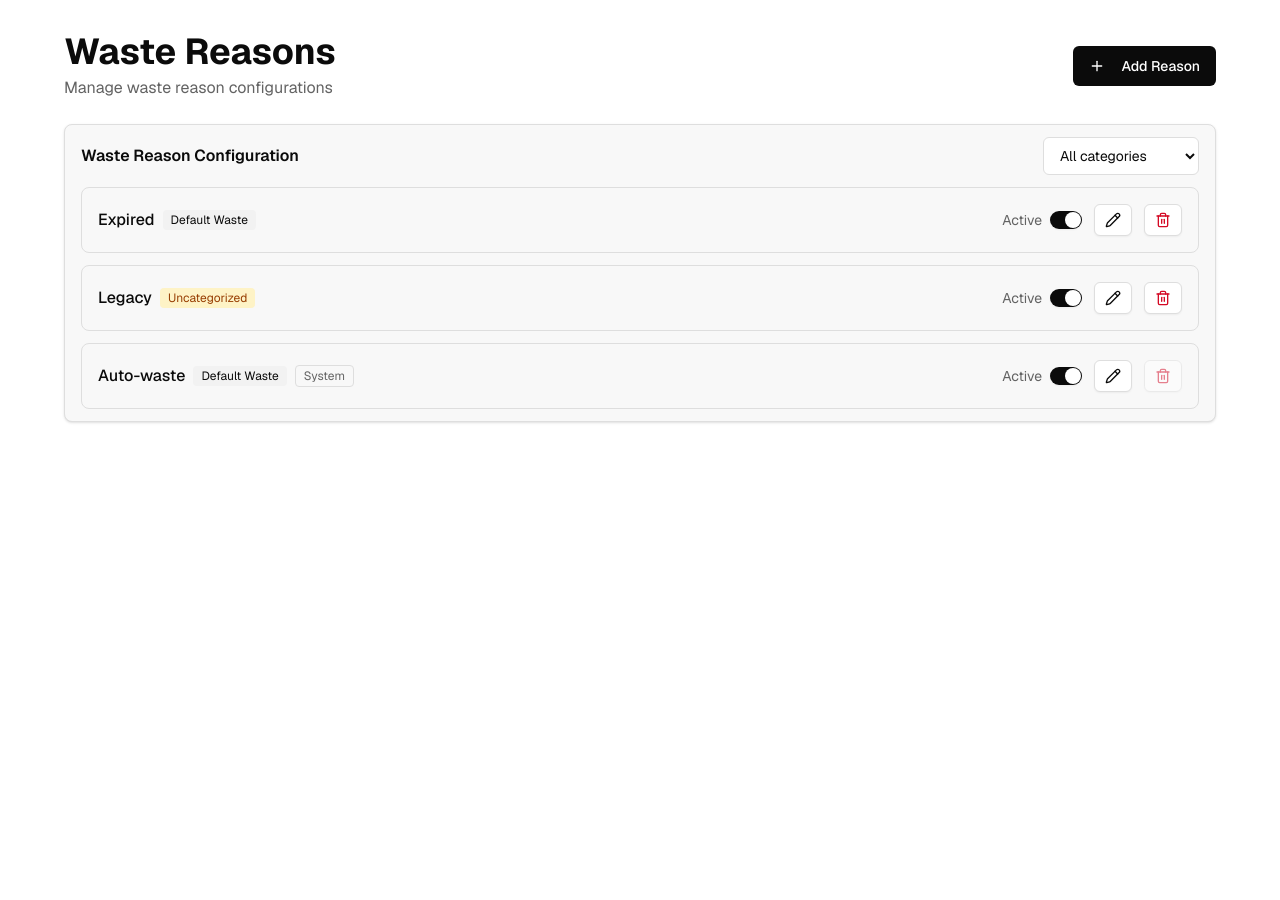
WasteReasonsAdmin — categories › does not allow renaming a system reason
This screenshot has width=1280, height=900.
Click the button without text in the row of "System".
click(1113, 376)  # box top-left (1094, 360), bottom-right (1132, 392)
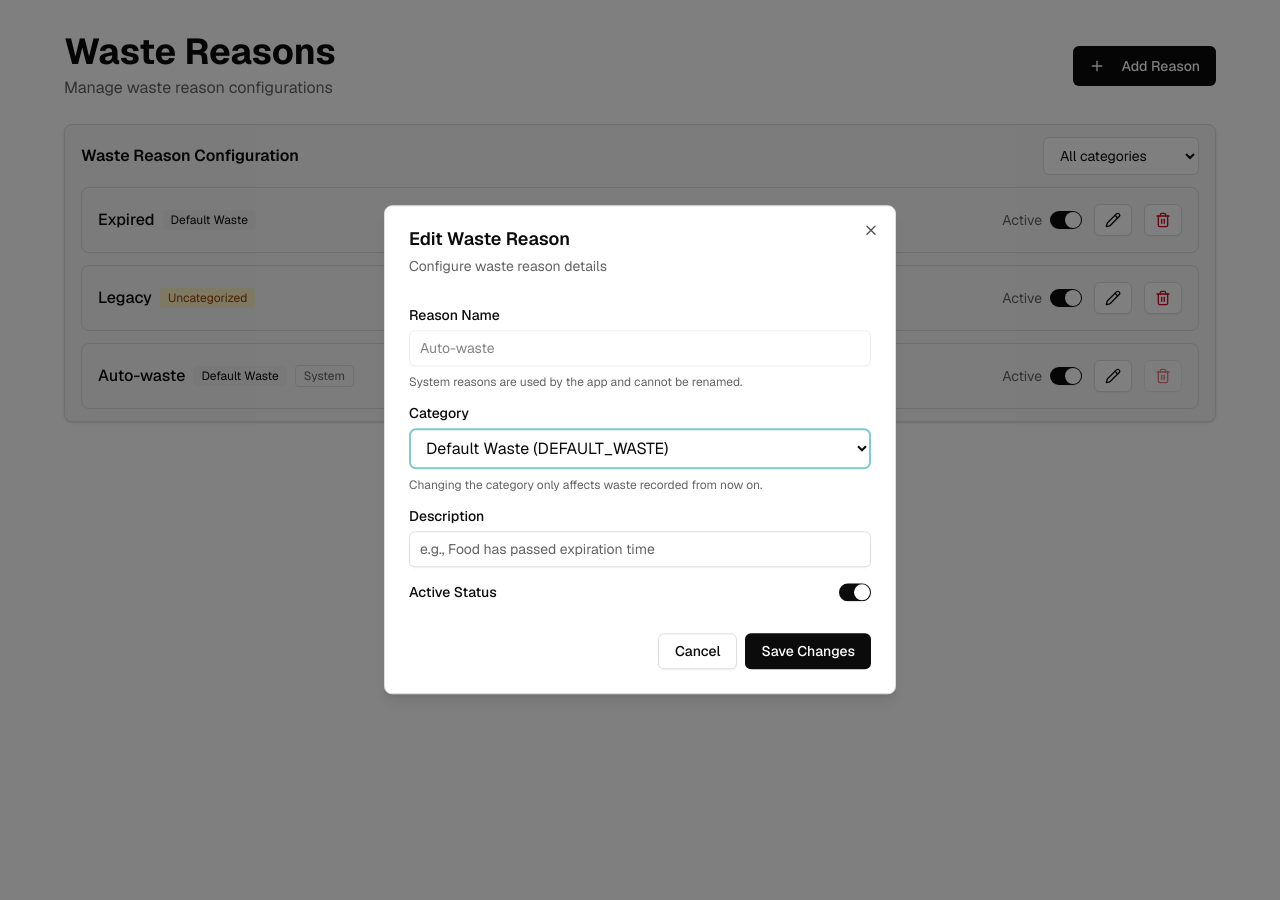
Result: the field labelled "Reason Name" is disabled at top-left (409, 330), bottom-right (871, 366)
